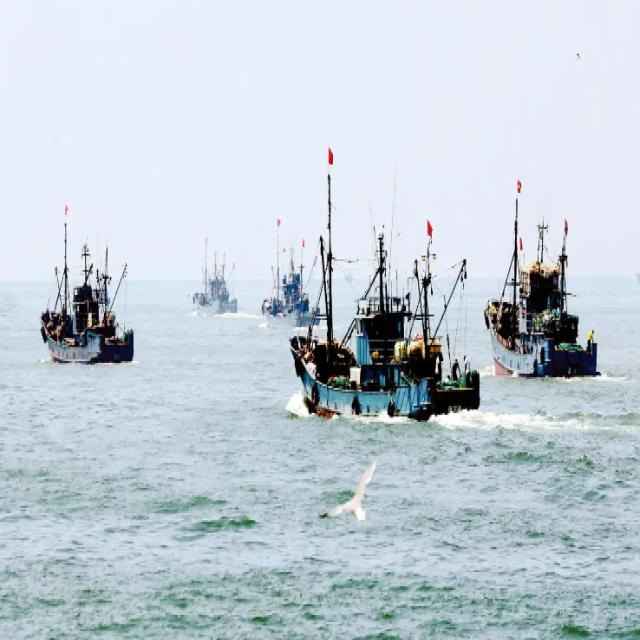fishing boat: (289, 264, 478, 428), (486, 190, 602, 387), (41, 220, 136, 364), (263, 216, 322, 334), (192, 240, 238, 320)
